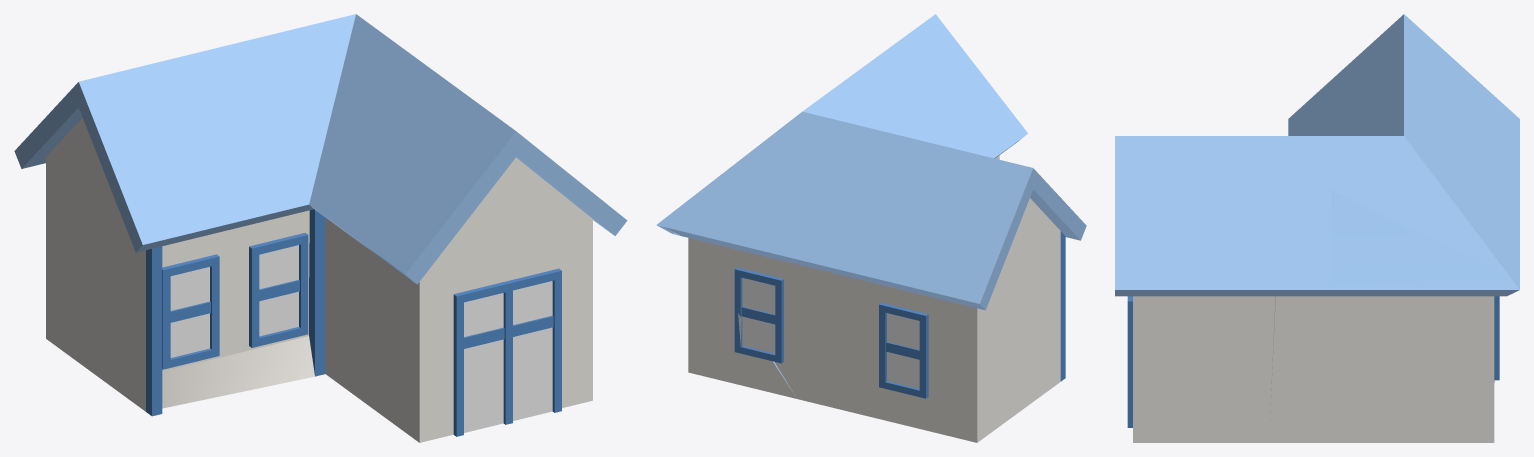
Rendered from House 3 Pivot Fix.fbx.
3 renders of one model, left to right at view 1: azimuth 30°, elevation 25°; view 2: azimuth 150°, elevation 25°; view 3: azimuth 270°, elevation 25°, orthographic. The views are drawn at different scales.
Parts seen in each view (by area): view 1: polySurface72, polySurface114, polySurface113; view 2: polySurface72, polySurface114, polySurface113; view 3: polySurface113, polySurface114, polySurface72.
Part boxes in pixels (left/top/right/bottom): polySurface72: left=14, top=14, right=455, bottom=416; polySurface114: left=349, top=87, right=627, bottom=442; polySurface113: left=277, top=217, right=356, bottom=396; polySurface72: left=657, top=51, right=1086, bottom=442; polySurface114: left=885, top=14, right=1027, bottom=159; polySurface113: left=657, top=225, right=796, bottom=398; polySurface113: left=1269, top=160, right=1519, bottom=442; polySurface114: left=1115, top=136, right=1279, bottom=442; polySurface72: left=1225, top=14, right=1519, bottom=382.
Size of the model in its own units: 2.24 by 1.64 by 2.24.
